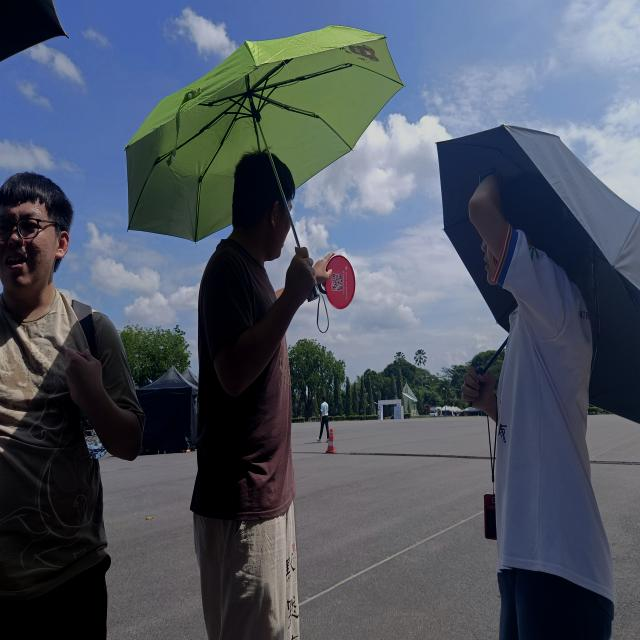person_without_labcoat: (462, 174, 615, 640), (190, 150, 330, 640), (0, 173, 145, 640)
